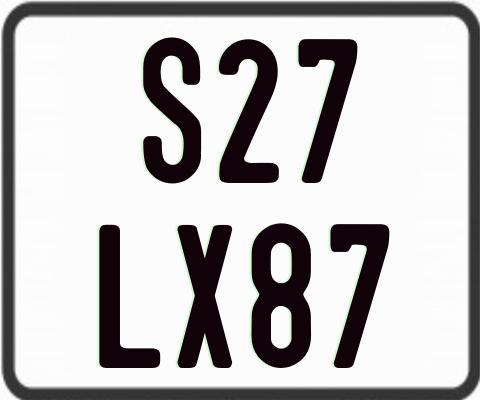2: (217, 39, 282, 188)
7: (330, 224, 395, 371), (296, 37, 359, 187)
8: (248, 221, 309, 369)
L: (97, 224, 163, 371)
S: (141, 34, 204, 180)
X: (176, 222, 236, 370)
